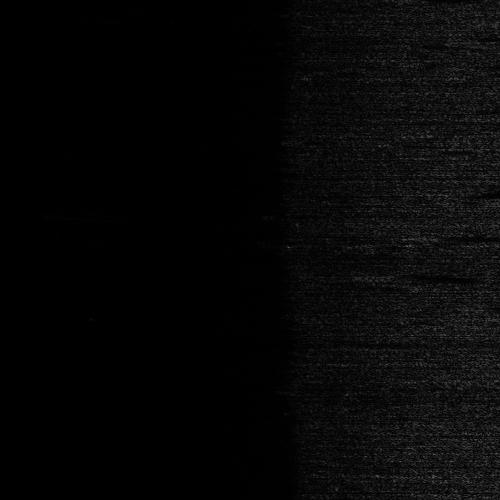rock: (400, 185, 493, 194), (361, 274, 424, 279), (398, 233, 451, 236)
shadow: (393, 274, 500, 279), (447, 185, 500, 194), (425, 233, 500, 236)
